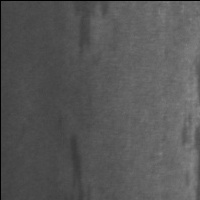inclusion: (59, 125, 94, 200), (69, 1, 102, 62), (171, 101, 199, 152)
